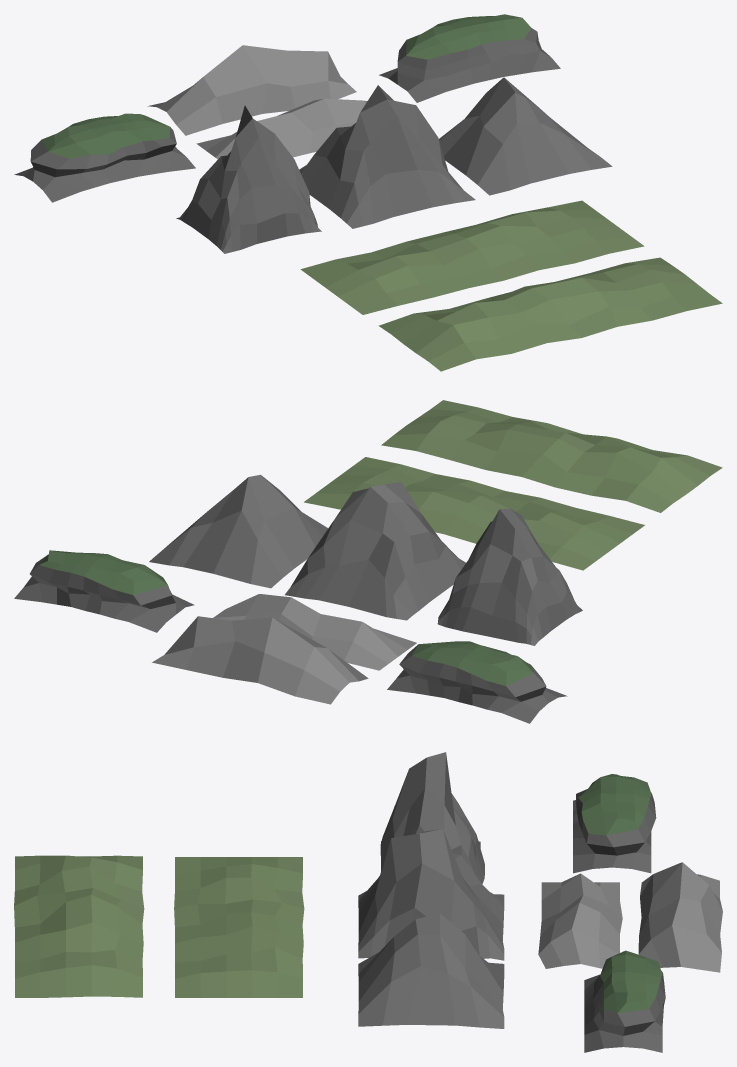
File: env_assets02.fbx
3 views of the same model, one above another, from view 1: azimuth 30°, elevation 25°; view 2: azimuth 150°, elevation 25°; view 3: azimuth 270°, elevation 25° (orthographic). The views are drawn at different scales.
Visible parts, largest first — view 1: Plains01, Plains02, Mount02, Mount03, Mount01, Mountains02, Cliff02, Cliff01, Mountains01; view 2: Plains02, Mount02, Plains01, Mount03, Mount01, Mountains02, Cliff02, Cliff01, Mountains01; view 3: Plains02, Plains01, Mount01, Mount02, Mountains02, Cliff02, Cliff01, Mountains01, Mount03.
Boxes of the visible parts, box(x1,y1,x2,y2) form: Plains01: box(300, 200, 644, 314); Plains02: box(378, 257, 722, 371); Mount02: box(299, 85, 475, 228); Mount03: box(176, 105, 321, 253); Mount01: box(439, 77, 612, 195); Mountains02: box(147, 45, 356, 135); Cliff02: box(14, 113, 195, 202); Cliff01: box(379, 14, 560, 102); Mountains01: box(196, 98, 367, 159); Plains02: box(381, 400, 722, 512); Mount02: box(285, 481, 465, 620); Plains01: box(304, 457, 644, 570); Mount03: box(437, 508, 582, 645); Mount01: box(149, 474, 327, 588); Mountains02: box(152, 616, 368, 704); Cliff02: box(387, 641, 567, 723); Cliff01: box(14, 550, 194, 632); Mountains01: box(213, 594, 416, 670); Plains02: box(14, 855, 144, 997); Plains01: box(174, 857, 304, 997); Mount01: box(358, 913, 504, 1028); Mount02: box(358, 829, 504, 960); Mountains02: box(638, 862, 722, 972); Cliff02: box(573, 774, 656, 873); Cliff01: box(584, 950, 665, 1052); Mountains01: box(538, 873, 622, 968); Mount03: box(380, 752, 484, 884).
Size of the model in its own units: 1553 by 334 by 1810.
